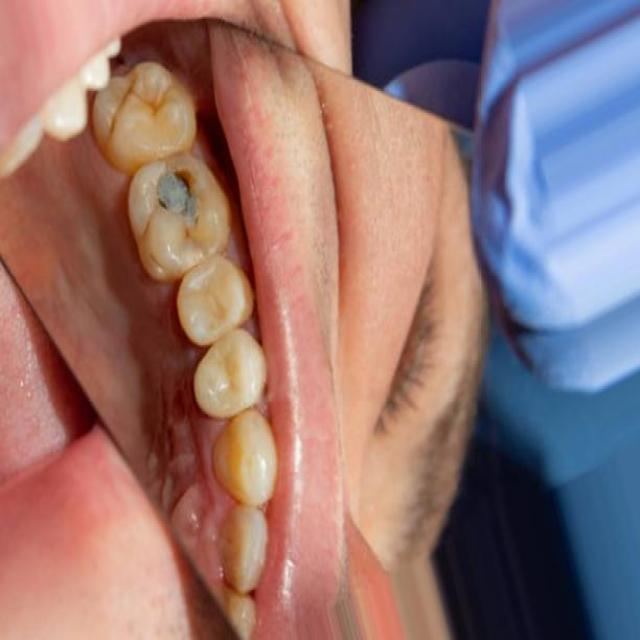caries: (140, 160, 220, 268)
